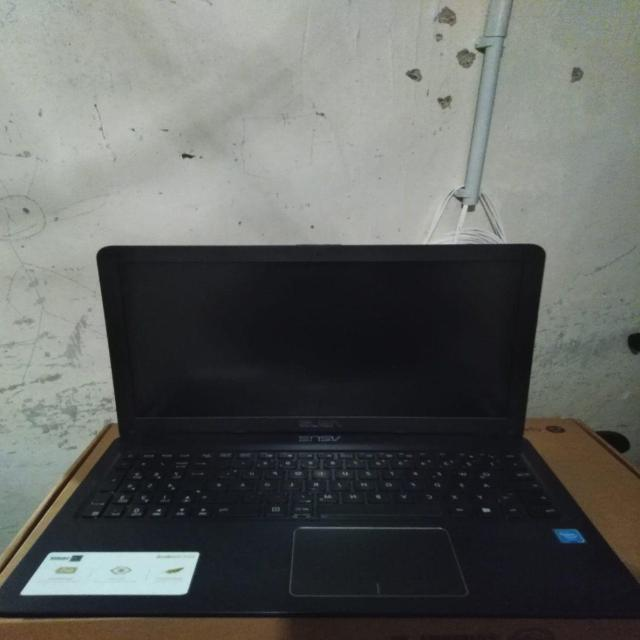keyboard: (74, 443, 564, 525)
